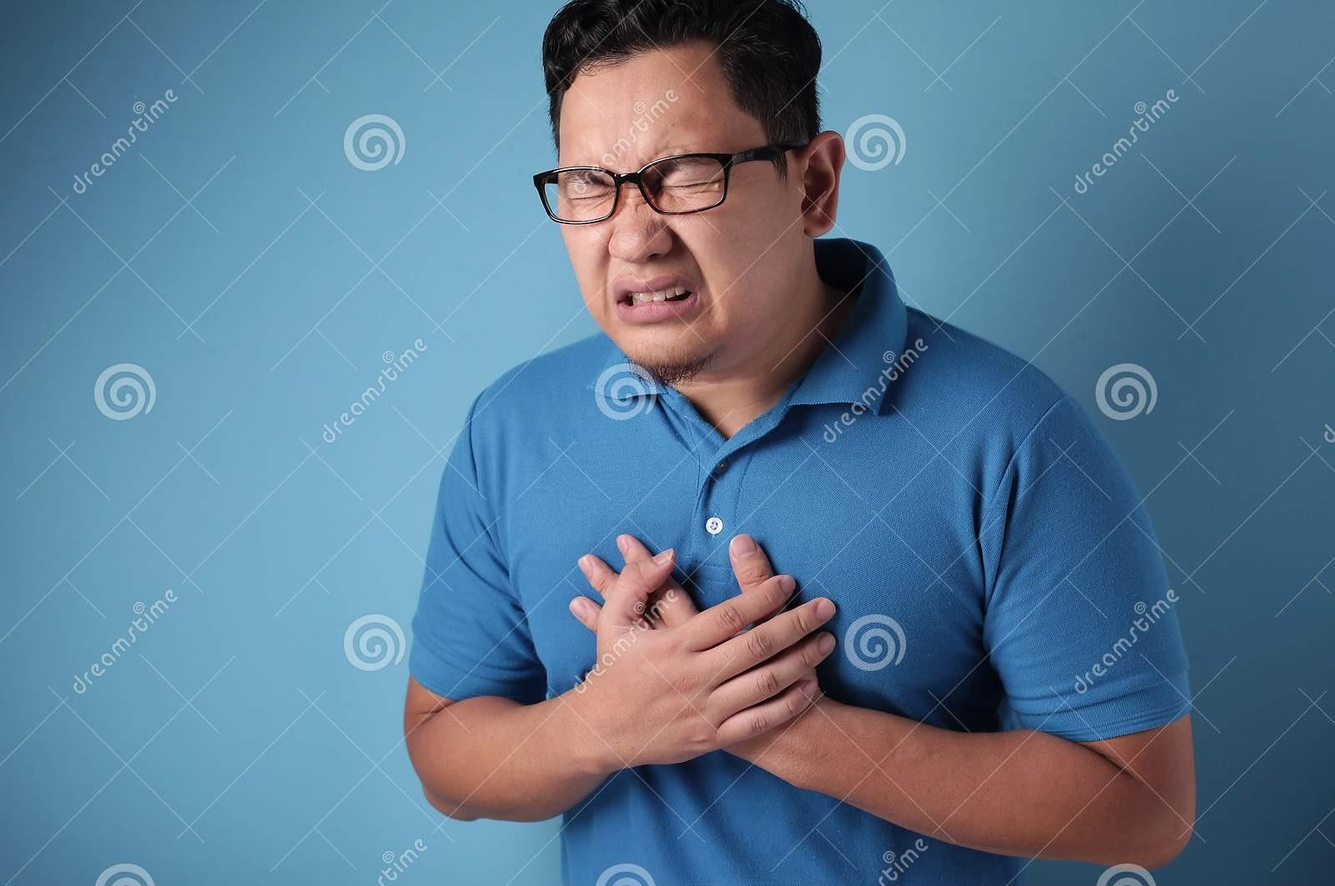pain: (520, 151, 755, 226)
